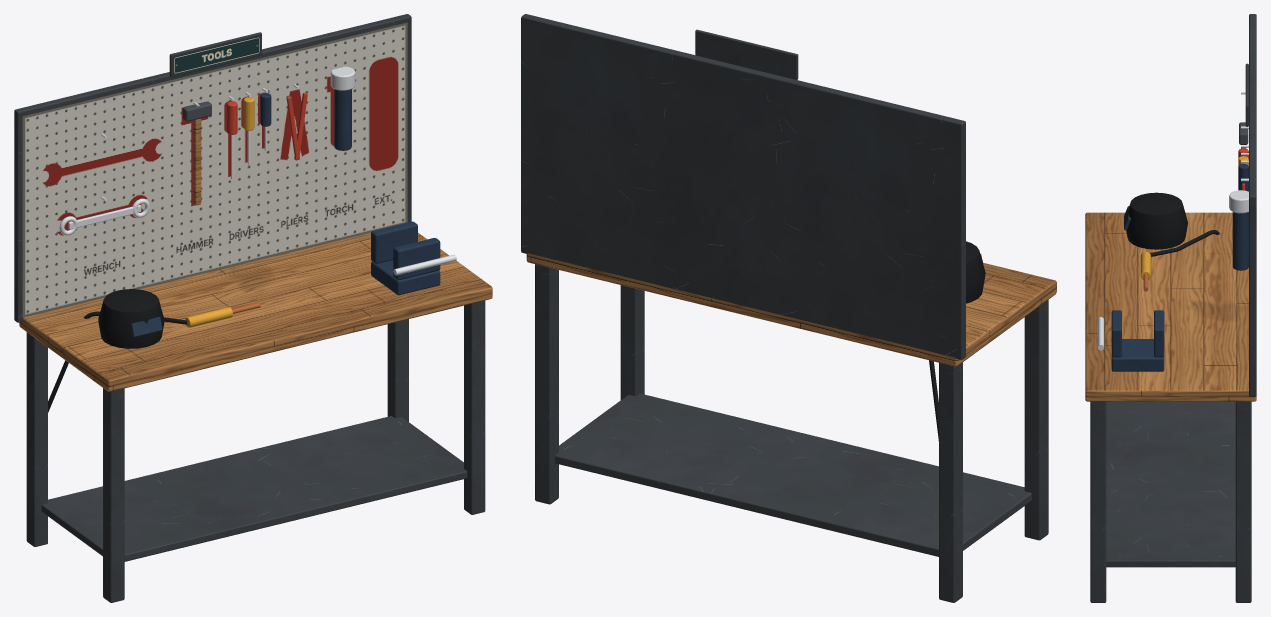
Rendered from Workbench.glb.
3 views of the same model, side by side, from view 1: azimuth 30°, elevation 25°; view 2: azimuth 150°, elevation 25°; view 3: azimuth 270°, elevation 25° (orthographic). The views are drawn at different scales.
Parts seen in each view (by area): view 1: Workbench_Body, Workbench_ViseJaw; view 2: Workbench_Body; view 3: Workbench_Body, Workbench_ViseJaw.
Part boxes in pixels (<box>): Workbench_Body: <box>14,14,492,602</box>; Workbench_ViseJaw: <box>393,238,456,279</box>; Workbench_Body: <box>521,14,1056,602</box>; Workbench_Body: <box>1085,14,1256,602</box>; Workbench_ViseJaw: <box>1098,310,1121,357</box>.
Bounding box in the file's own units: 1.64 × 1.8 × 0.65.
12 materials, 7 textured.
